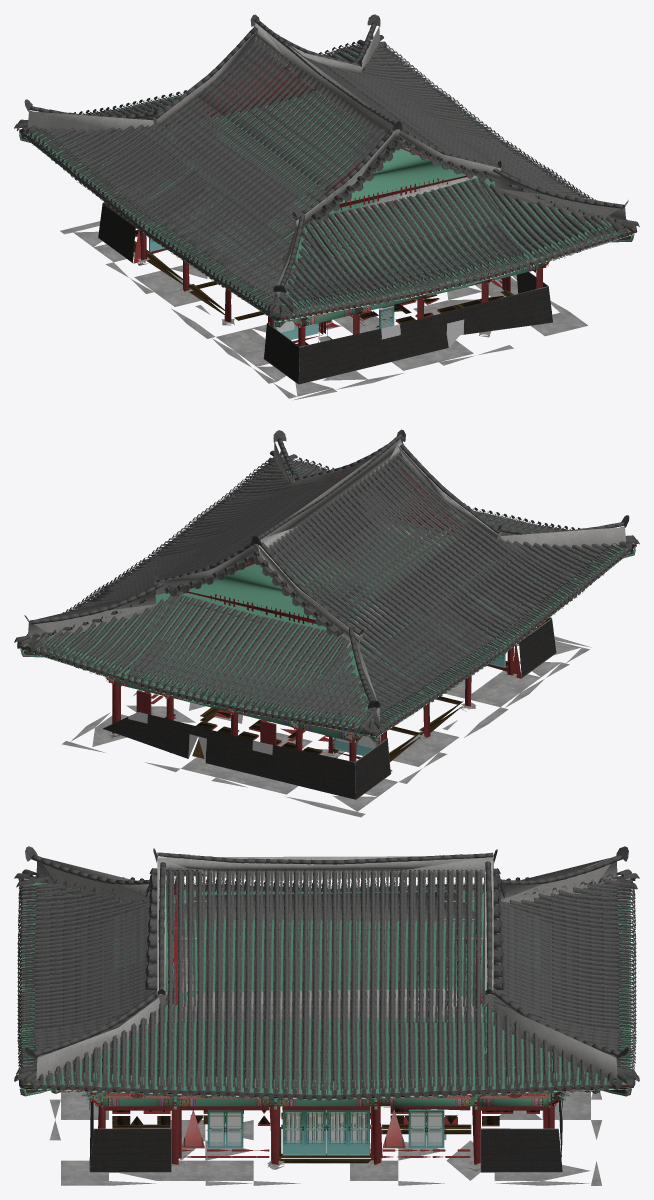
Rendered from honghwa.glb.
3 views of the same model, one above another, from view 1: azimuth 30°, elevation 25°; view 2: azimuth 150°, elevation 25°; view 3: azimuth 270°, elevation 25° (orthographic). The views are drawn at different scales.
Parts seen in each view (by area): view 1: 27_Honghwagak, 27_Honghwagak_lambert5_0.001, 27_Honghwagak_lambert5_0.002, 27_Honghwagak_lambert6_0.003, 27_Honghwagak_lambert6_0.001, 27_Honghwagak_lambert6_0.004, 27_Honghwagak_lambert4_0.001, 27_Honghwagak_lambert3_0.001, 27_Honghwagak_lambert6_0.002; view 2: 27_Honghwagak, 27_Honghwagak_lambert5_0.001, 27_Honghwagak_lambert5_0.002, 27_Honghwagak_lambert6_0.002, 27_Honghwagak_lambert6_0.003, 27_Honghwagak_lambert6_0.001, 27_Honghwagak_lambert4_0.001, 27_Honghwagak_lambert3_0.001; view 3: 27_Honghwagak, 27_Honghwagak_lambert5_0.001, 27_Honghwagak_lambert6_0.002, 27_Honghwagak_lambert6_0.001, 27_Honghwagak_Mat_Door03_0.002, 27_Honghwagak_lambert3_0.001, 27_Honghwagak_lambert6_0.004, 27_Honghwagak_lambert5_0.002, 27_Honghwagak_lambert6_0.003, 27_Honghwagak_lambert4_0.001.
Part boxes in pixels (<box>): 27_Honghwagak: <box>14,14,639,400</box>; 27_Honghwagak_lambert5_0.001: <box>41,46,613,301</box>; 27_Honghwagak_lambert5_0.002: <box>93,38,395,290</box>; 27_Honghwagak_lambert6_0.003: <box>83,38,403,293</box>; 27_Honghwagak_lambert6_0.001: <box>34,115,614,308</box>; 27_Honghwagak_lambert6_0.004: <box>320,194,484,295</box>; 27_Honghwagak_lambert4_0.001: <box>29,127,596,309</box>; 27_Honghwagak_lambert3_0.001: <box>17,38,634,317</box>; 27_Honghwagak_lambert6_0.002: <box>88,45,614,221</box>; 27_Honghwagak: <box>14,429,639,817</box>; 27_Honghwagak_lambert5_0.001: <box>42,460,612,719</box>; 27_Honghwagak_lambert5_0.002: <box>269,454,563,683</box>; 27_Honghwagak_lambert6_0.002: <box>36,462,471,725</box>; 27_Honghwagak_lambert6_0.003: <box>269,455,572,688</box>; 27_Honghwagak_lambert6_0.001: <box>126,460,621,719</box>; 27_Honghwagak_lambert4_0.001: <box>121,479,625,724</box>; 27_Honghwagak_lambert3_0.001: <box>19,454,630,732</box>; 27_Honghwagak: <box>14,846,639,1185</box>; 27_Honghwagak_lambert5_0.001: <box>35,868,618,1078</box>; 27_Honghwagak_lambert6_0.002: <box>42,869,628,1086</box>; 27_Honghwagak_lambert6_0.001: <box>25,869,628,1066</box>; 27_Honghwagak_Mat_Door03_0.002: <box>207,1109,444,1148</box>; 27_Honghwagak_lambert3_0.001: <box>17,874,636,1100</box>; 27_Honghwagak_lambert6_0.004: <box>25,908,174,1005</box>; 27_Honghwagak_lambert5_0.002: <box>35,868,399,953</box>; 27_Honghwagak_lambert6_0.003: <box>25,869,484,958</box>; 27_Honghwagak_lambert4_0.001: <box>101,876,635,1090</box>.
Bounding box in the file's own units: 18.34 × 10.18 × 22.84.
42 materials, 42 textured.
